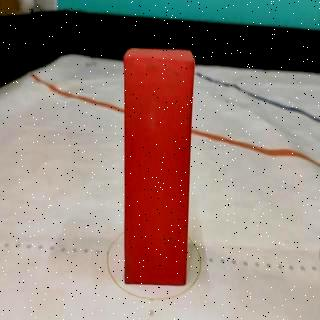redbox: (124, 46, 196, 287)
